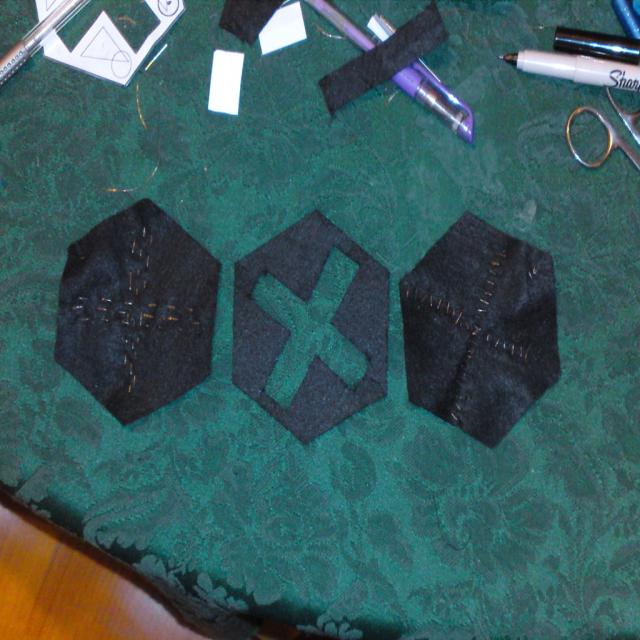pen: (305, 0, 476, 141), (496, 56, 640, 90), (548, 29, 640, 69)
